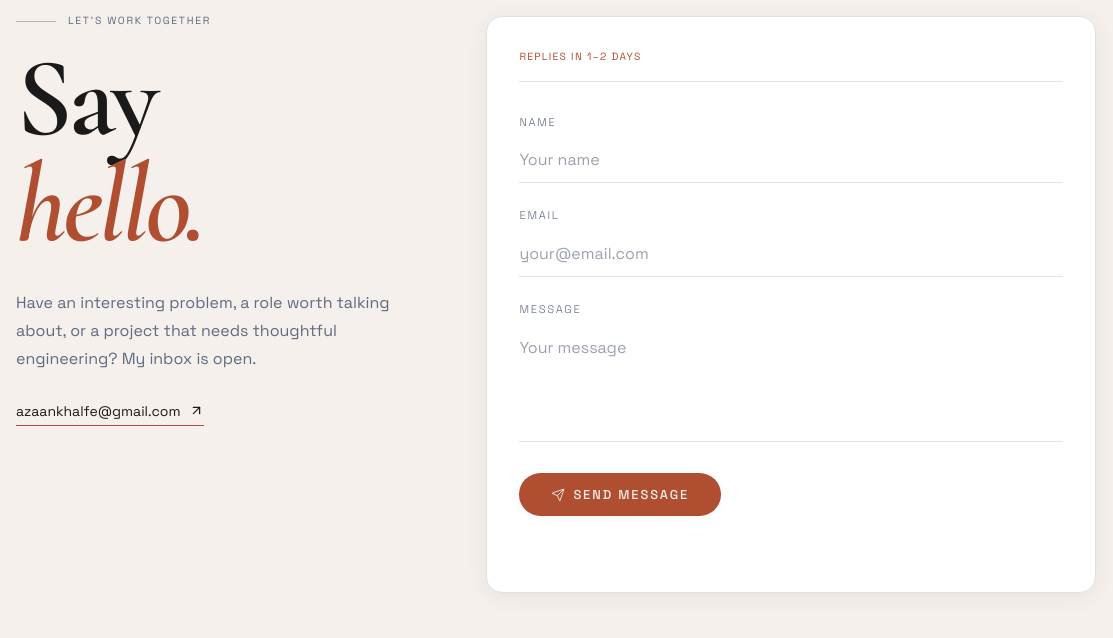
ContactPage › validates the email format on blur
Type "not-an-email" into the field labelled "Email" at (791, 255), box [519,232,1063,277]
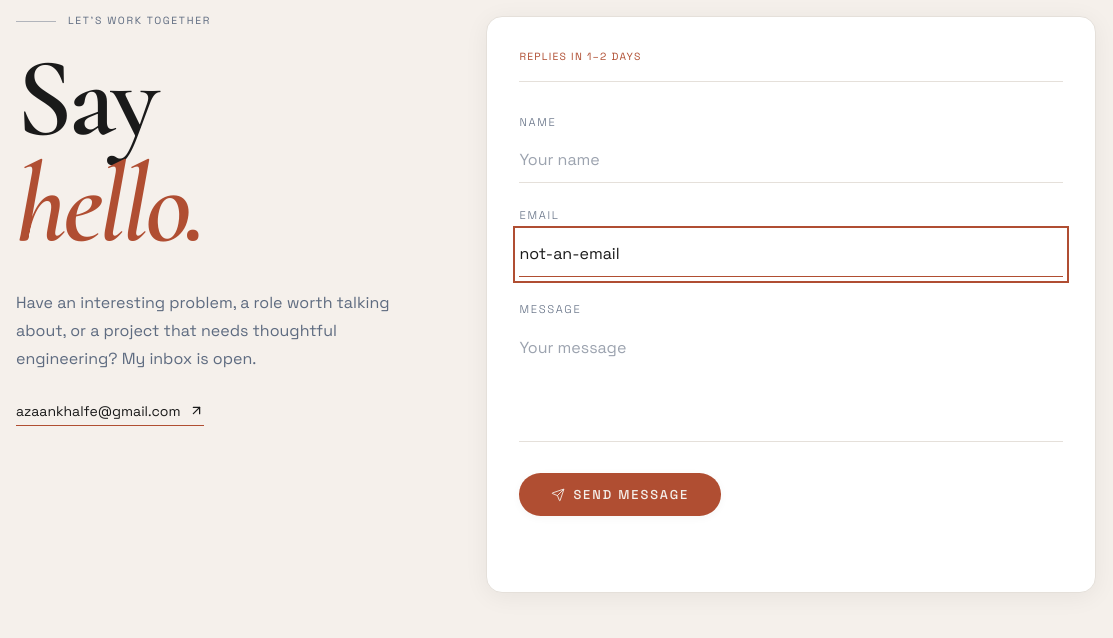
Press Tab
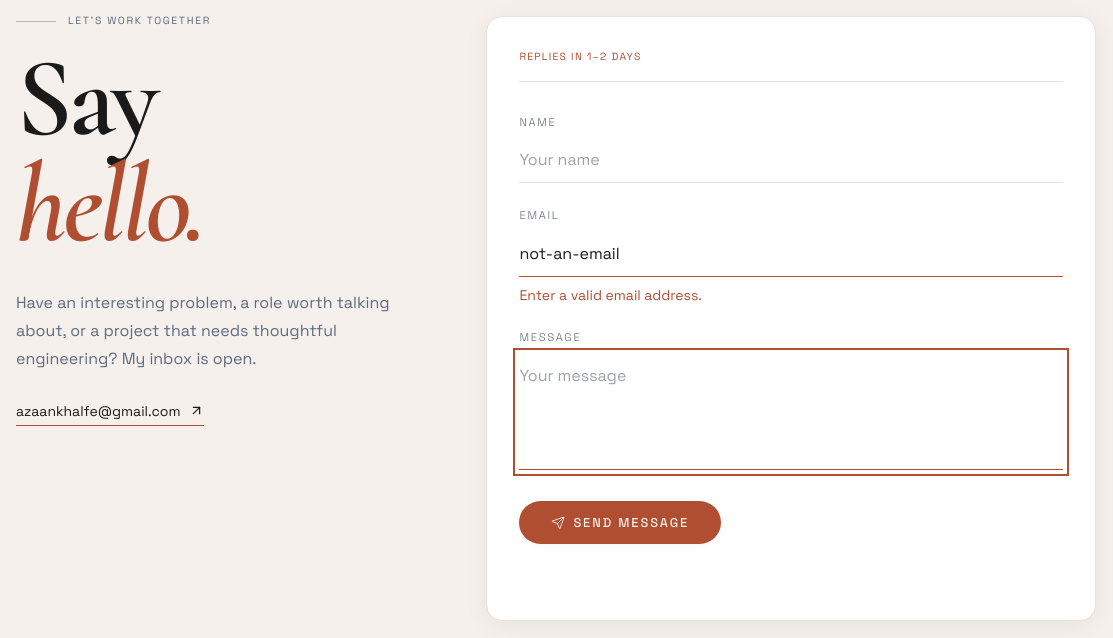
Now the text "Enter a valid email address." is shown, box [519,286,702,304]
